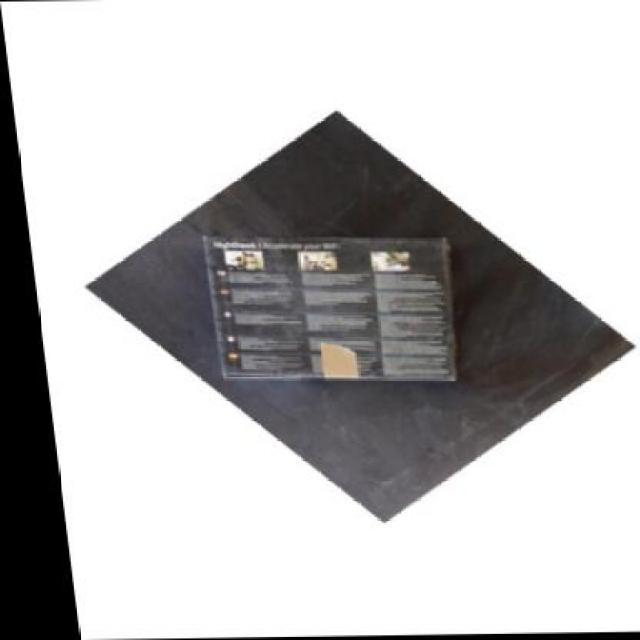box: (192, 238, 454, 382)
